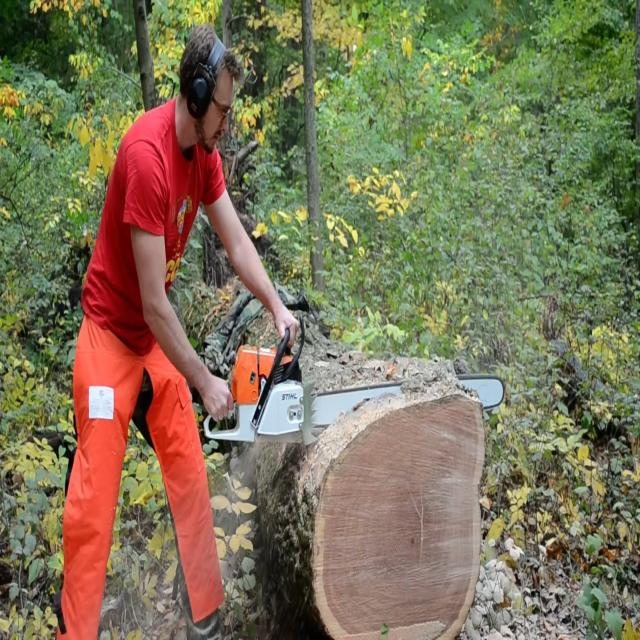Chainsaw: (188, 320, 514, 460)
